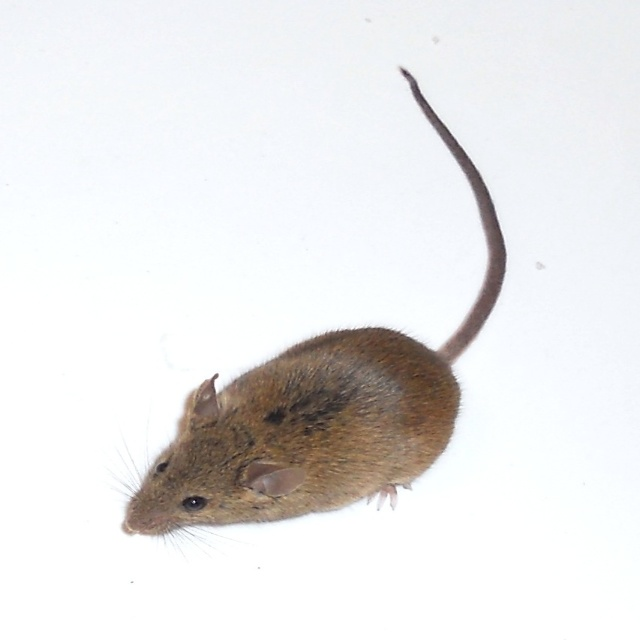Mouse: (101, 65, 509, 559)
